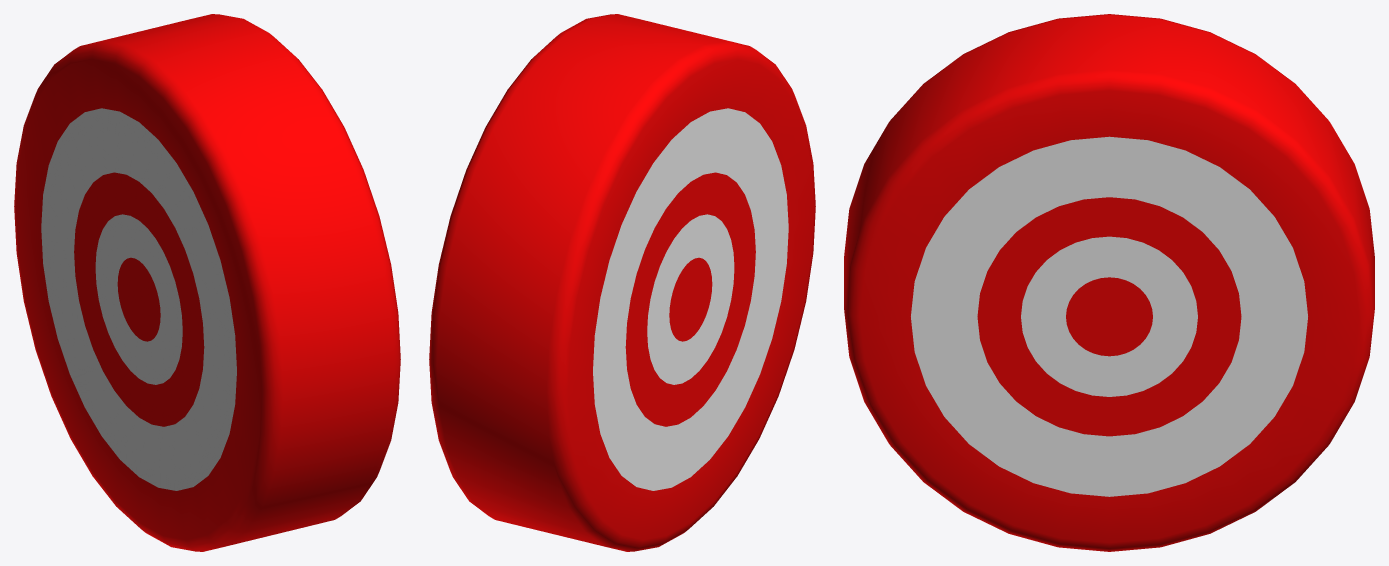
The model's file is target box.fbx.
3 views of the same model, side by side, from view 1: azimuth 30°, elevation 25°; view 2: azimuth 150°, elevation 25°; view 3: azimuth 270°, elevation 25° (orthographic).
Parts seen in each view (by area): view 1: Cylinder; view 2: Cylinder; view 3: Cylinder.
Boxes of the visible parts, x1,y1,x2,y2 form: Cylinder: [14, 14, 400, 551]; Cylinder: [429, 14, 815, 551]; Cylinder: [844, 14, 1374, 551].
Size of the model in its own units: 60.34 by 200 by 200.
